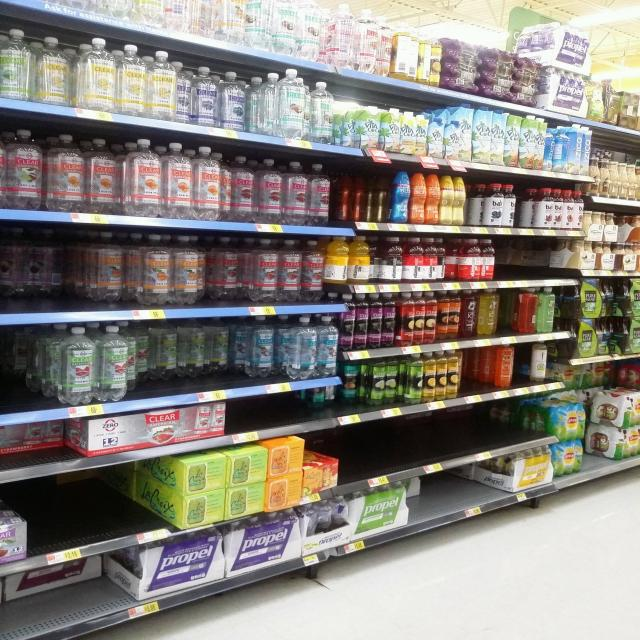void: (28, 323, 62, 419), (79, 468, 110, 556), (140, 461, 173, 539), (110, 462, 138, 550), (52, 474, 80, 560), (0, 327, 22, 423), (24, 486, 48, 569), (396, 411, 420, 479), (369, 422, 392, 490), (552, 237, 582, 289), (471, 402, 495, 464), (336, 81, 356, 155), (463, 348, 492, 398), (341, 426, 364, 488), (421, 411, 446, 468), (447, 402, 468, 469), (248, 394, 276, 441), (518, 398, 544, 448), (500, 289, 520, 352), (498, 238, 524, 286), (496, 399, 518, 455), (525, 239, 550, 288), (278, 391, 305, 436), (408, 478, 429, 532), (433, 471, 454, 525), (307, 386, 331, 431), (479, 459, 501, 506), (457, 465, 475, 517), (230, 398, 247, 444), (336, 387, 352, 425)
